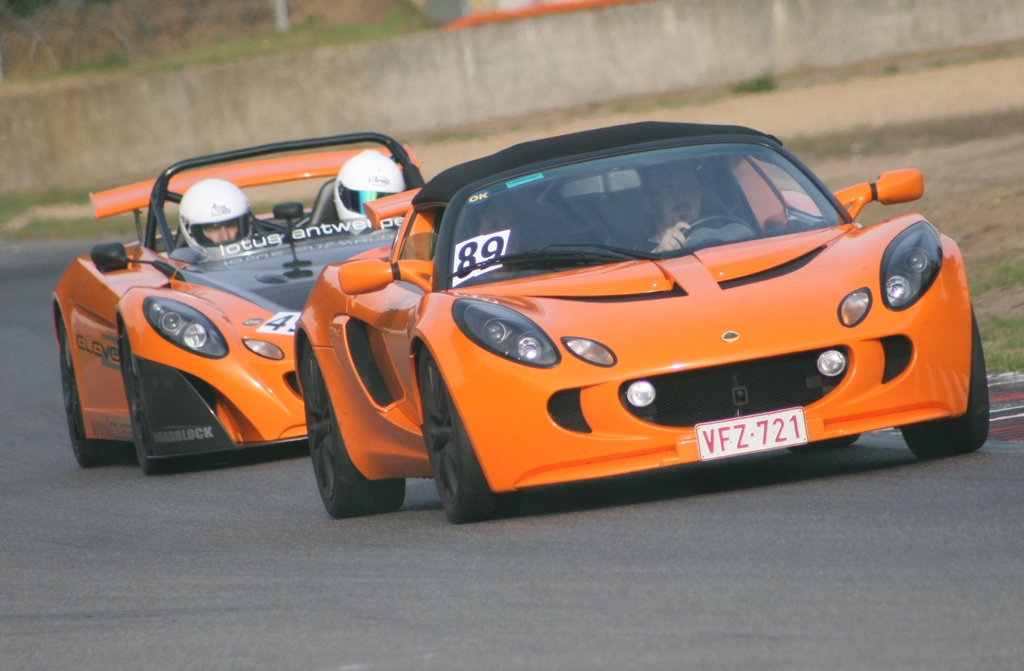Car: (291, 112, 990, 518), (48, 126, 431, 476)
